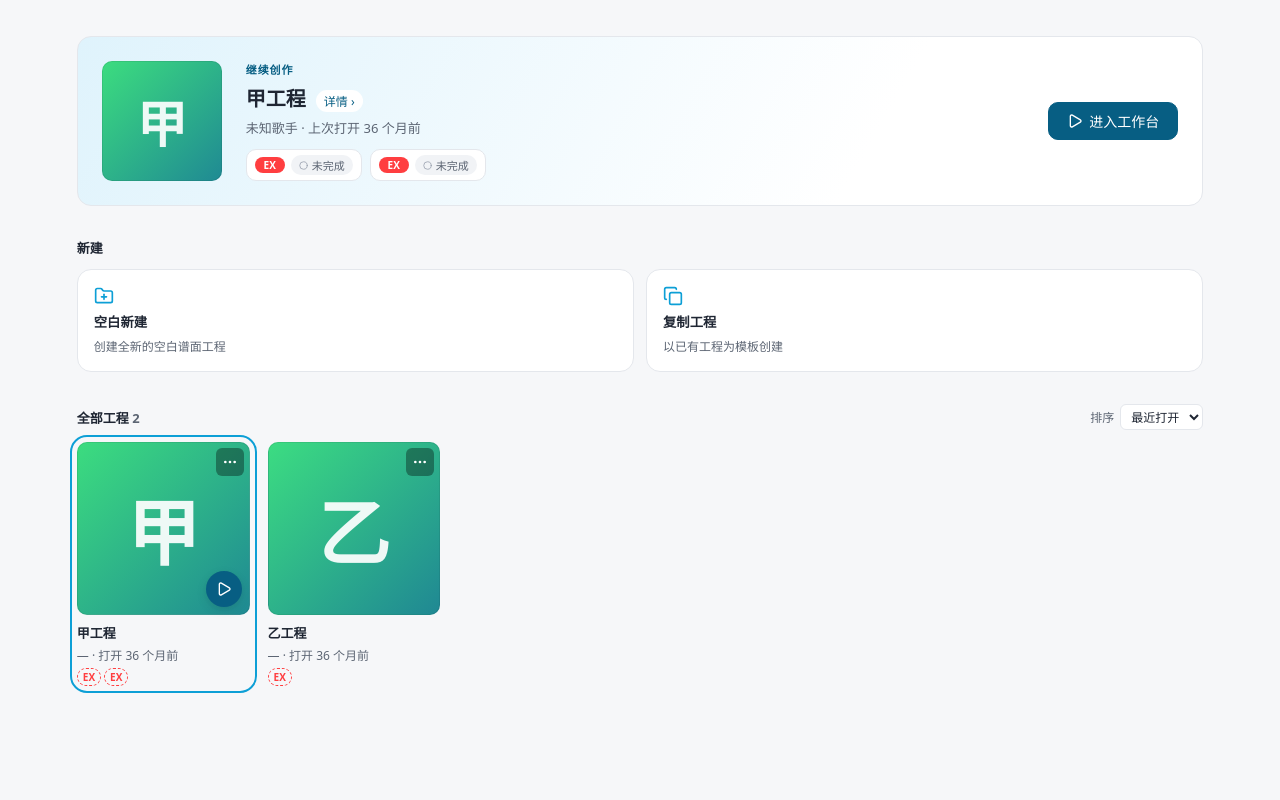
Test: issue 13 · 工程删除走自绘确认弹窗 › 点取消 → 弹窗关闭，工程还在
This screenshot has width=1280, height=800.
Expected: the heading "甲工程 详情 ›" is shown, [246, 85, 363, 112]
Click the 1st button titled "更多" at (230, 462), box [216, 448, 244, 476]
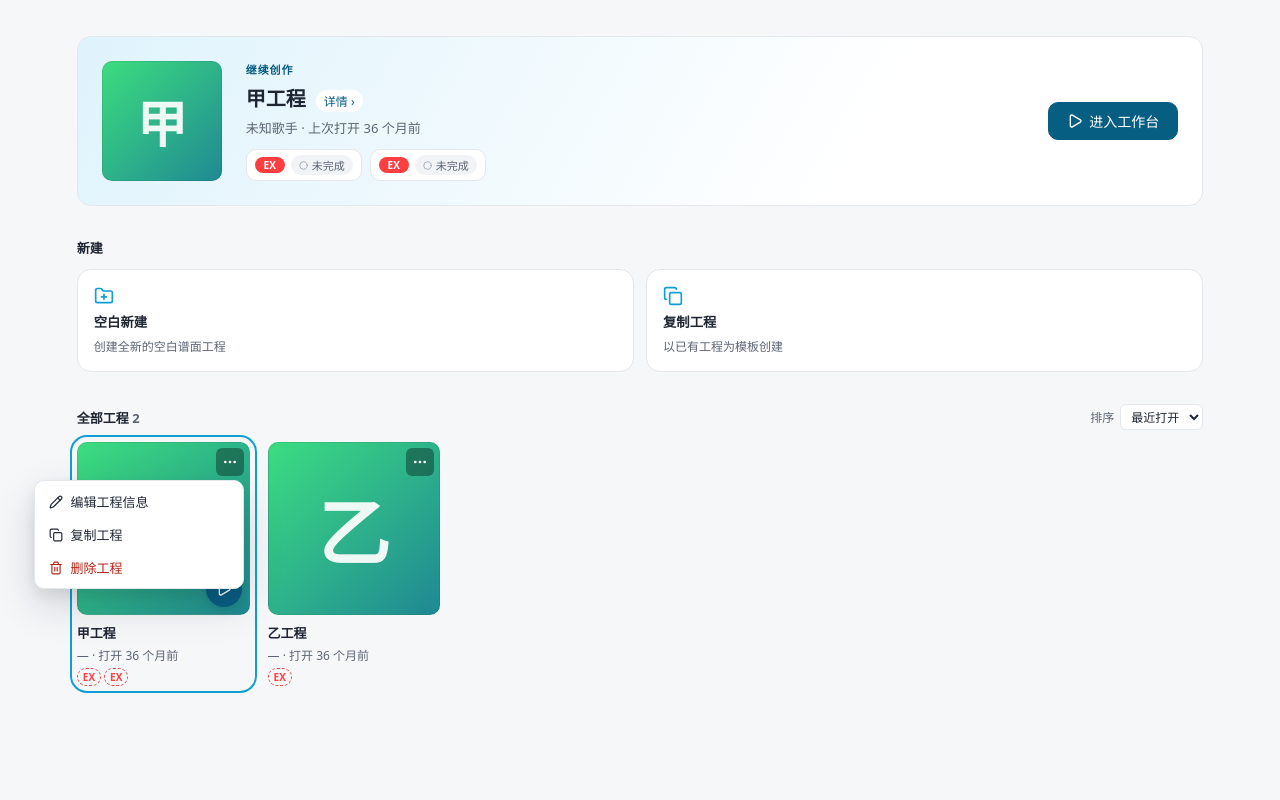
Click the button "删除工程" at (138, 568), box [38, 551, 238, 584]
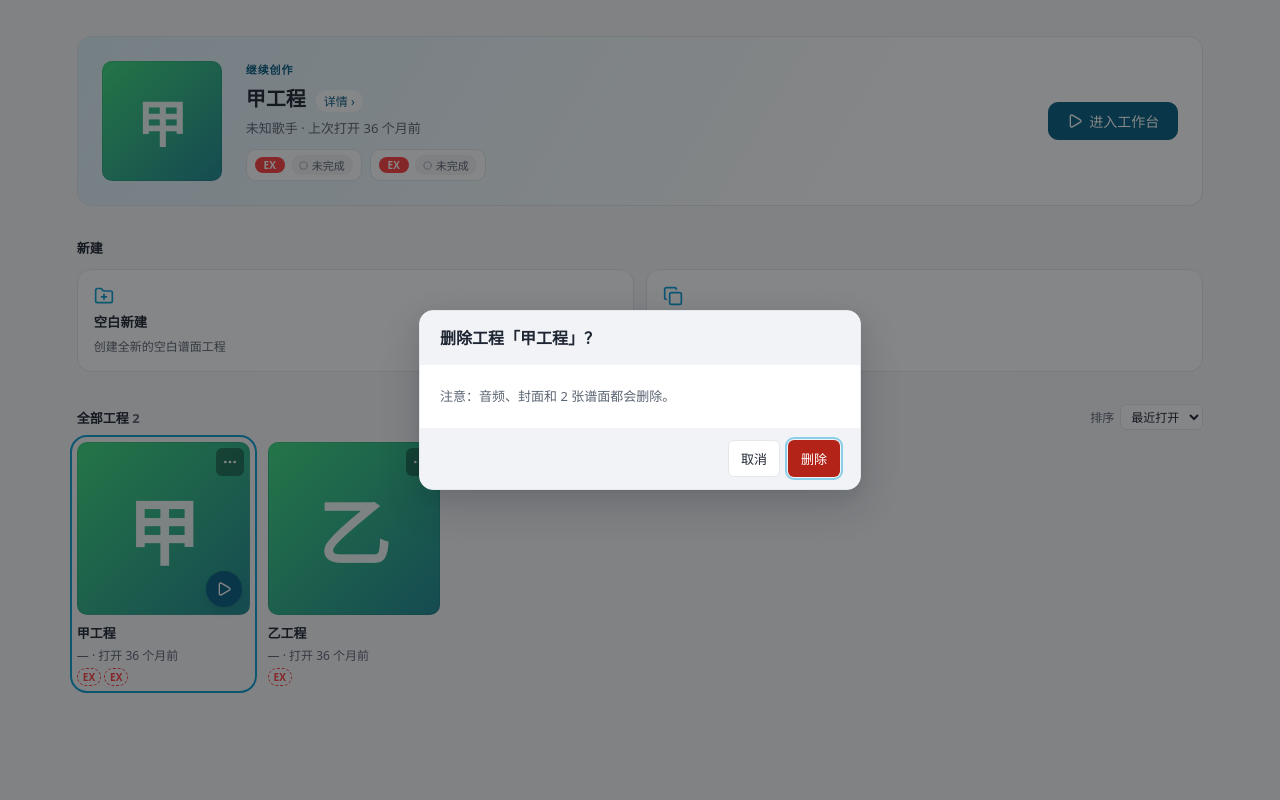
Now the dialog "删除工程「甲工程」？" is shown, box [419, 310, 861, 490]
Click the button "取消" at (754, 459), box [728, 440, 780, 477]
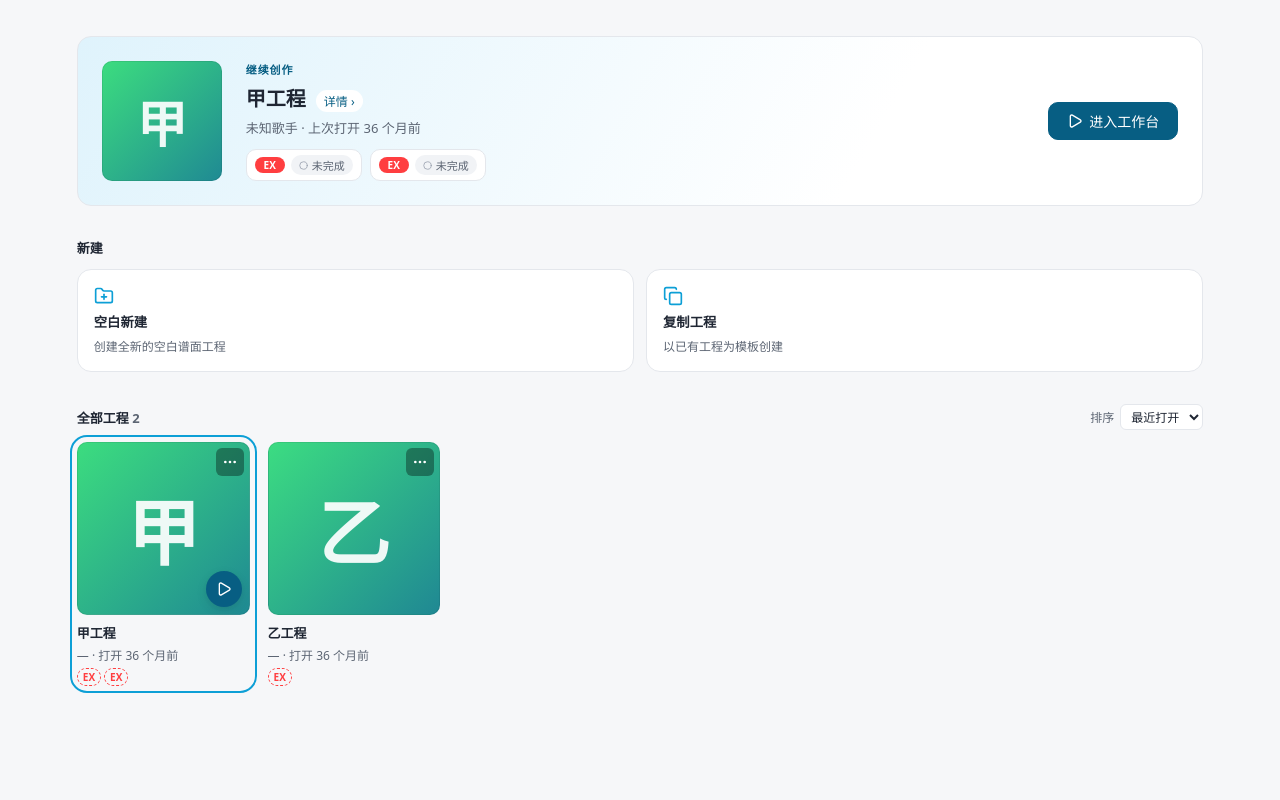
Now the dialog is gone
